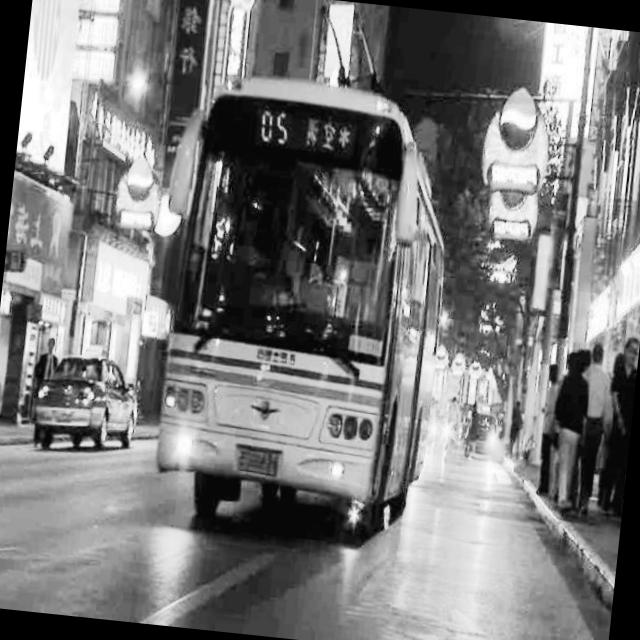Bus: (149, 62, 465, 566)
Car: (28, 330, 150, 487)
